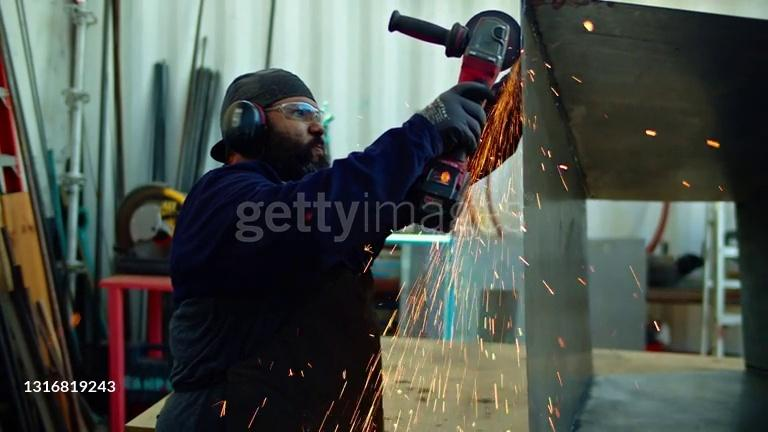person: (151, 58, 495, 432)
